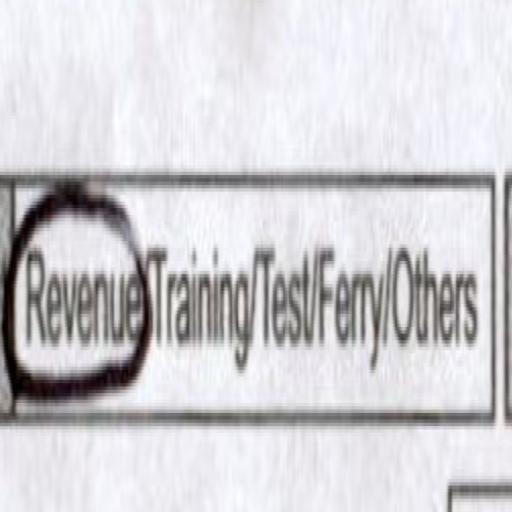check: (12, 117, 143, 424)
